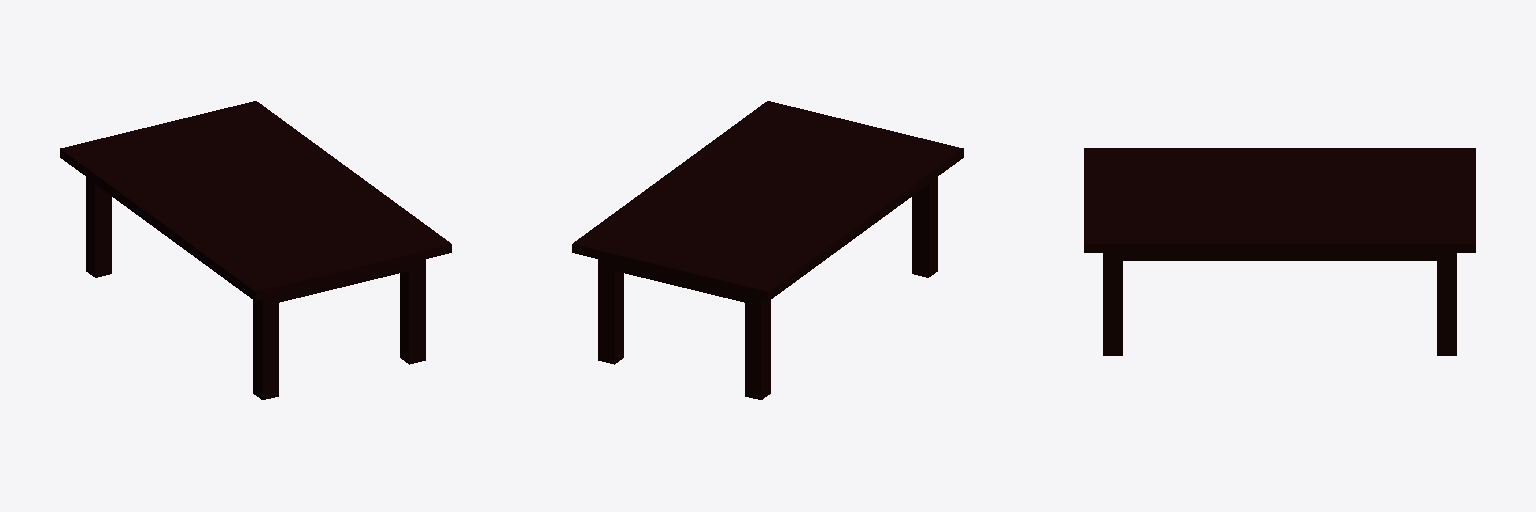
Rendered from geschenk_tisch.obj.
3 views of the same model, side by side, from view 1: azimuth 30°, elevation 25°; view 2: azimuth 150°, elevation 25°; view 3: azimuth 270°, elevation 25° (orthographic).
Visible parts, largest first — view 1: Table; view 2: Table; view 3: Table.
Boxes of the visible parts, x1,y1,x2,y2 form: Table: [60, 101, 451, 399]; Table: [572, 101, 963, 399]; Table: [1084, 148, 1475, 355].
Bounding box in the file's own units: 1.72 × 1 × 2.98.